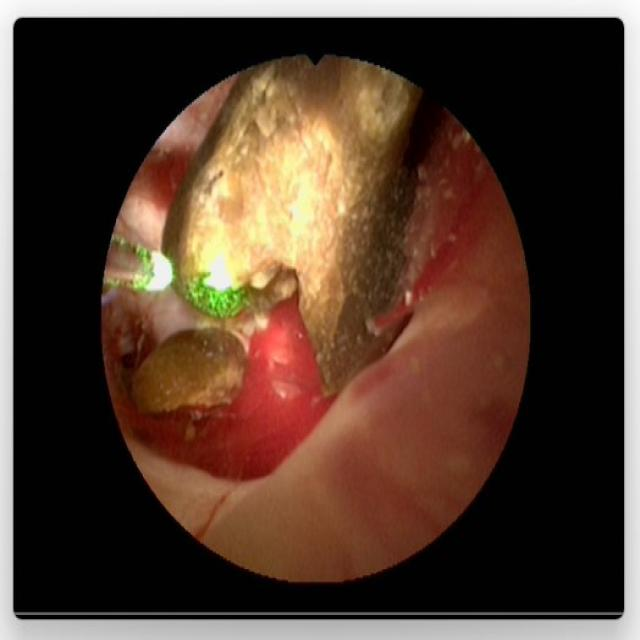stone: (163, 61, 421, 394), (133, 328, 250, 418)
